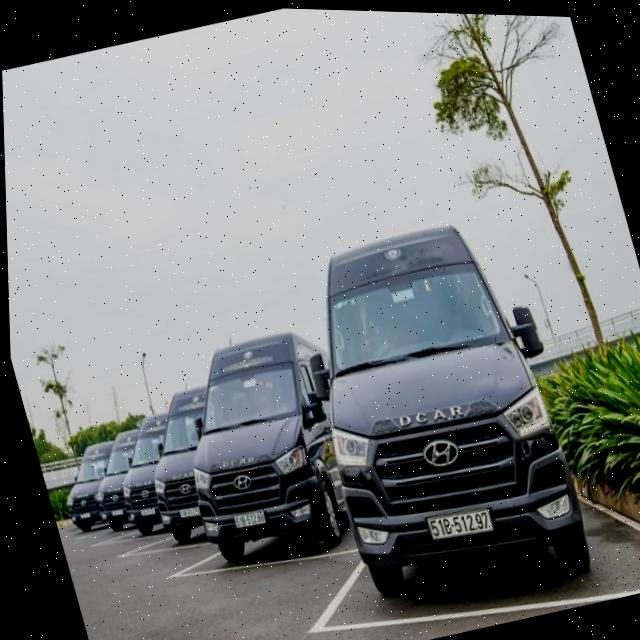car: (275, 205, 598, 625), (148, 319, 368, 581), (51, 443, 149, 540)
plate: (418, 497, 500, 549), (226, 501, 272, 536), (172, 498, 204, 526), (135, 499, 161, 522)
